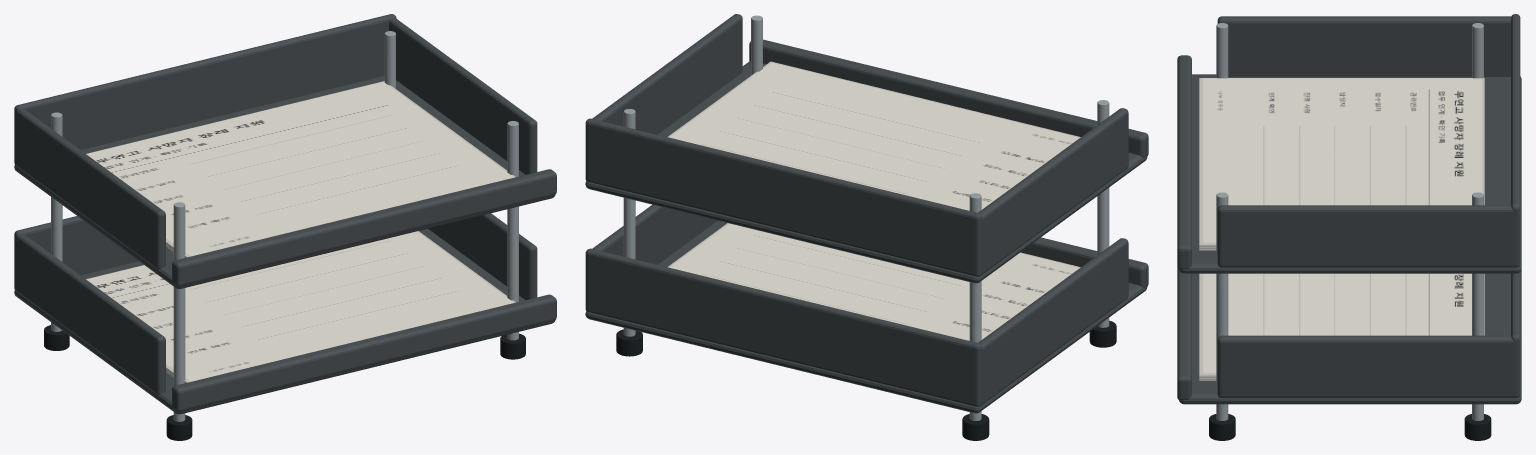
File: Administrative_Document_Tray.fbx
The picture shows the model from 3 angles, left to right: view 1: azimuth 30°, elevation 25°; view 2: azimuth 150°, elevation 25°; view 3: azimuth 270°, elevation 25°; orthographic projection. The views are drawn at different scales.
Parts seen in each view (by area): view 1: Administrative_Document_Tray; view 2: Administrative_Document_Tray; view 3: Administrative_Document_Tray.
Part boxes in pixels (x1,y1,x2,y2): Administrative_Document_Tray: (14, 14, 556, 440); Administrative_Document_Tray: (585, 14, 1148, 440); Administrative_Document_Tray: (1177, 14, 1521, 440).
Size of the model in its own units: 0.34 by 0.198 by 0.256.
5 materials, 1 textured.
